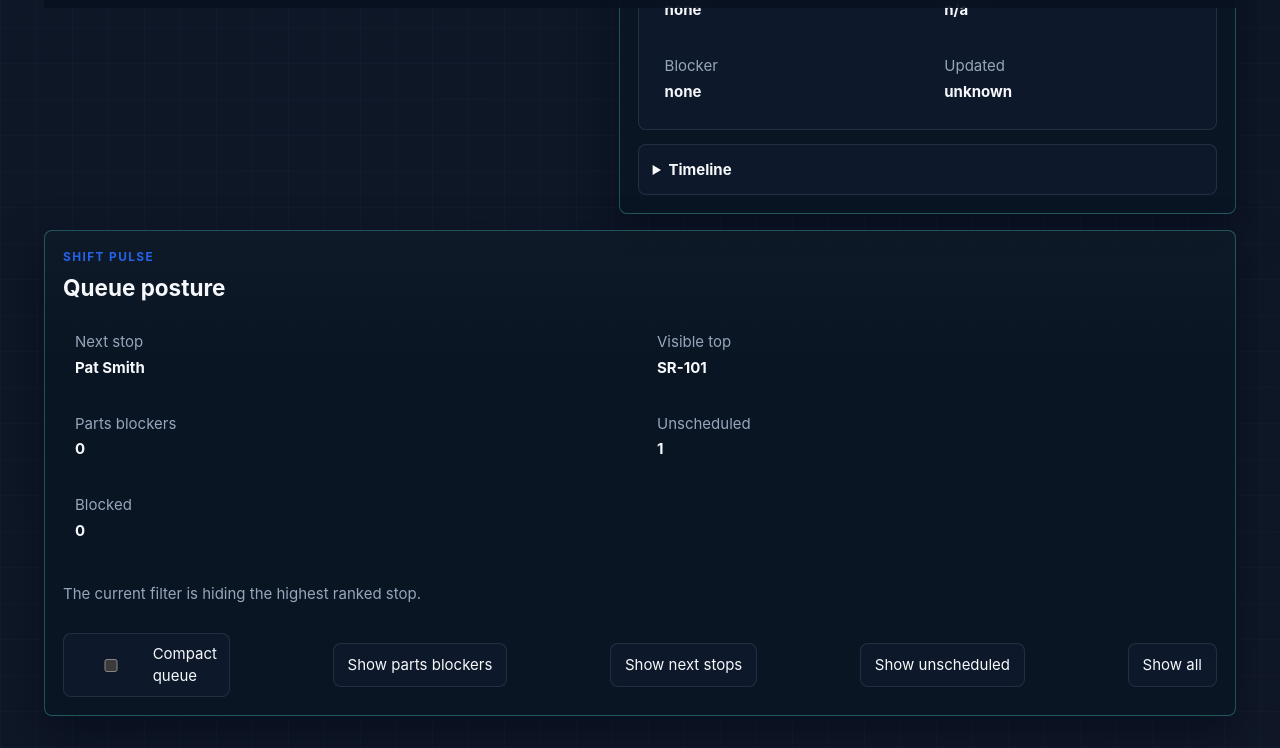
it: FieldDesk App › restores the last selected job and supports priority queue scopes
The image size is (1280, 748).
(page scrolled)
Click the button "Show next stops" at (684, 665), box [610, 643, 757, 687]
(page scrolled)
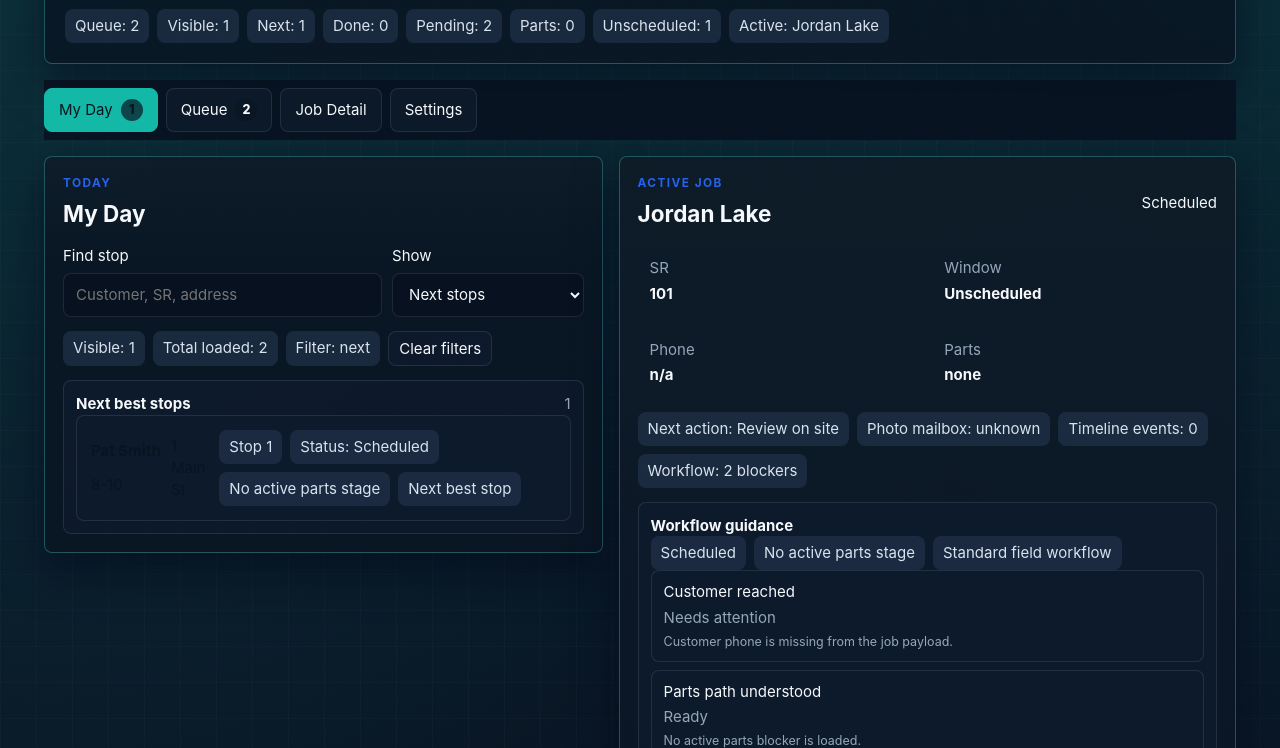
expect the text "Filter: next" is shown: met, box [286, 331, 380, 366]
